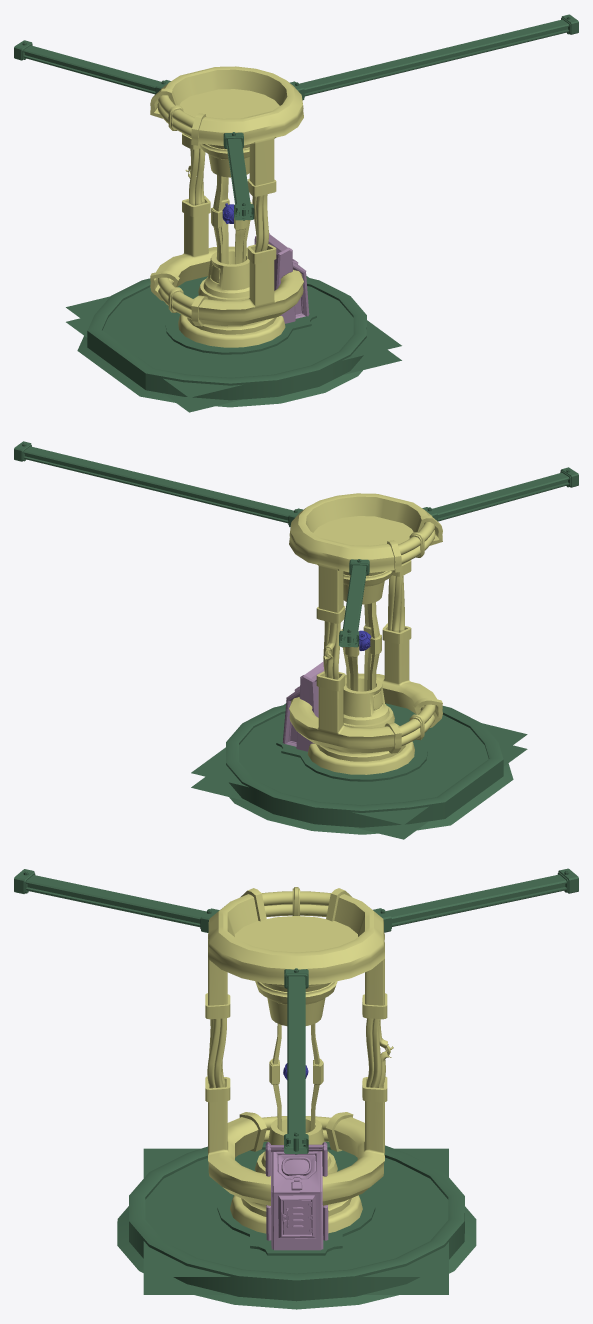
Rendered from Reactor.fbx.
3 renders of one model, top to bottom at view 1: azimuth 30°, elevation 25°; view 2: azimuth 150°, elevation 25°; view 3: azimuth 270°, elevation 25°, orthographic. The views are drawn at different scales.
Visible parts, largest first — view 1: ReactorFrame_Geo, Supports_Geo, GrateUpper_Geo, GrateLower_Geo, Console_Geo; view 2: ReactorFrame_Geo, Supports_Geo, GrateUpper_Geo, GrateLower_Geo, Console_Geo; view 3: ReactorFrame_Geo, Supports_Geo, GrateUpper_Geo, Console_Geo, GrateLower_Geo.
Boxes of the visible parts, x1,y1,x2,y2 form: ReactorFrame_Geo: (150,66,303,347); Supports_Geo: (14,14,578,407); GrateUpper_Geo: (66,276,401,397); GrateLower_Geo: (66,318,401,412); Console_Geo: (254,233,309,323); ReactorFrame_Geo: (289,493,442,774); Supports_Geo: (14,441,578,834); GrateUpper_Geo: (191,703,527,824); GrateLower_Geo: (191,745,527,839); Console_Geo: (282,660,324,751); ReactorFrame_Geo: (205,887,393,1233); Supports_Geo: (14,868,578,1309); GrateUpper_Geo: (143,1148,448,1276); Console_Geo: (265,1142,328,1250); GrateLower_Geo: (143,1277,448,1294).
Size of the model in its own units: 731 by 383 by 625.
